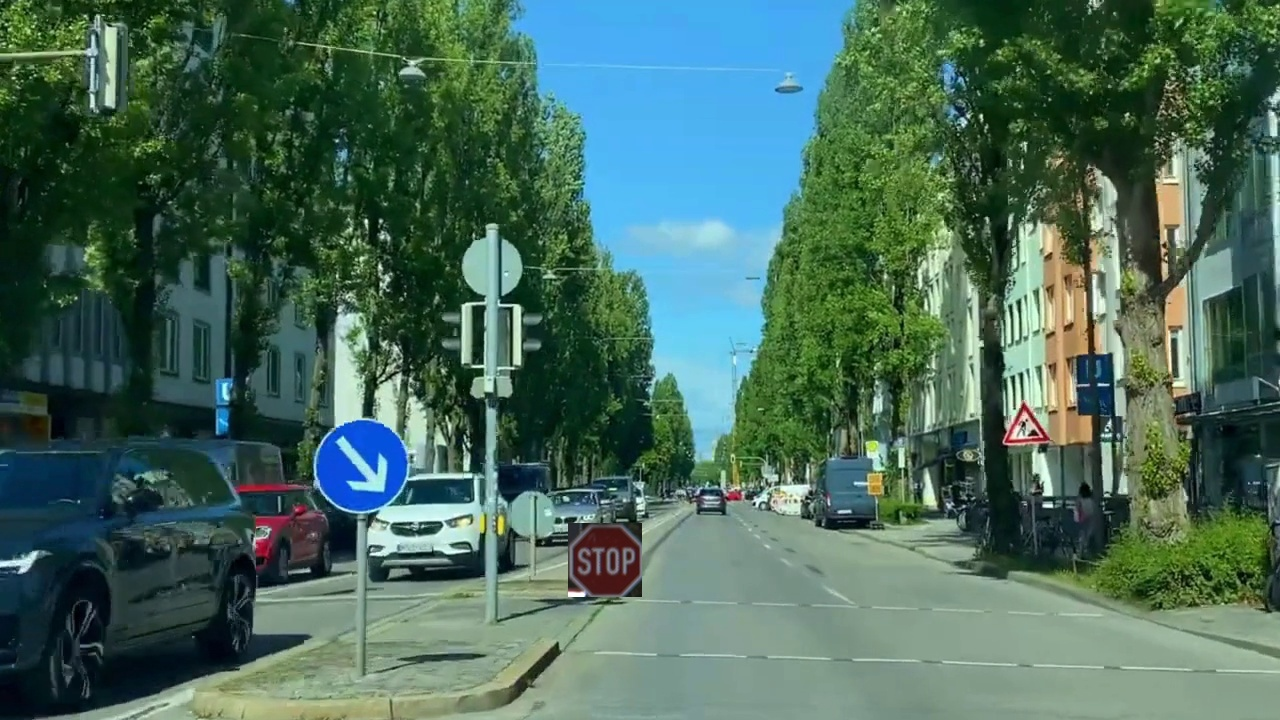Stop: (568, 523, 642, 597)
